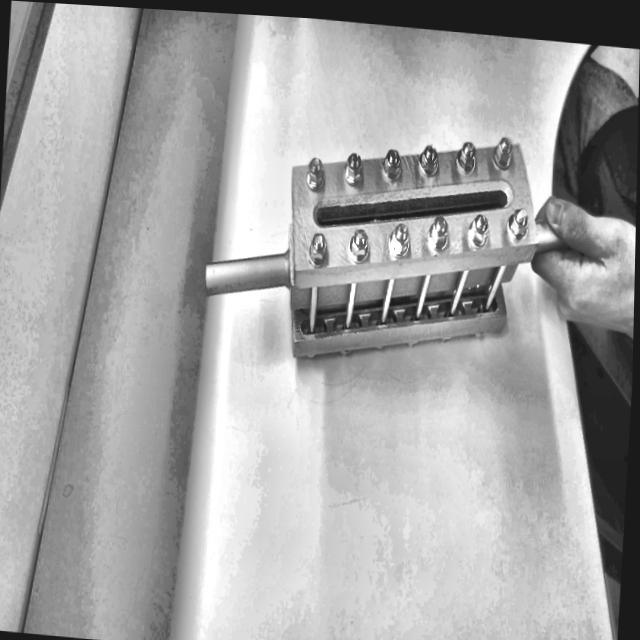ShuiWeiQi_12: (183, 38, 549, 401)
